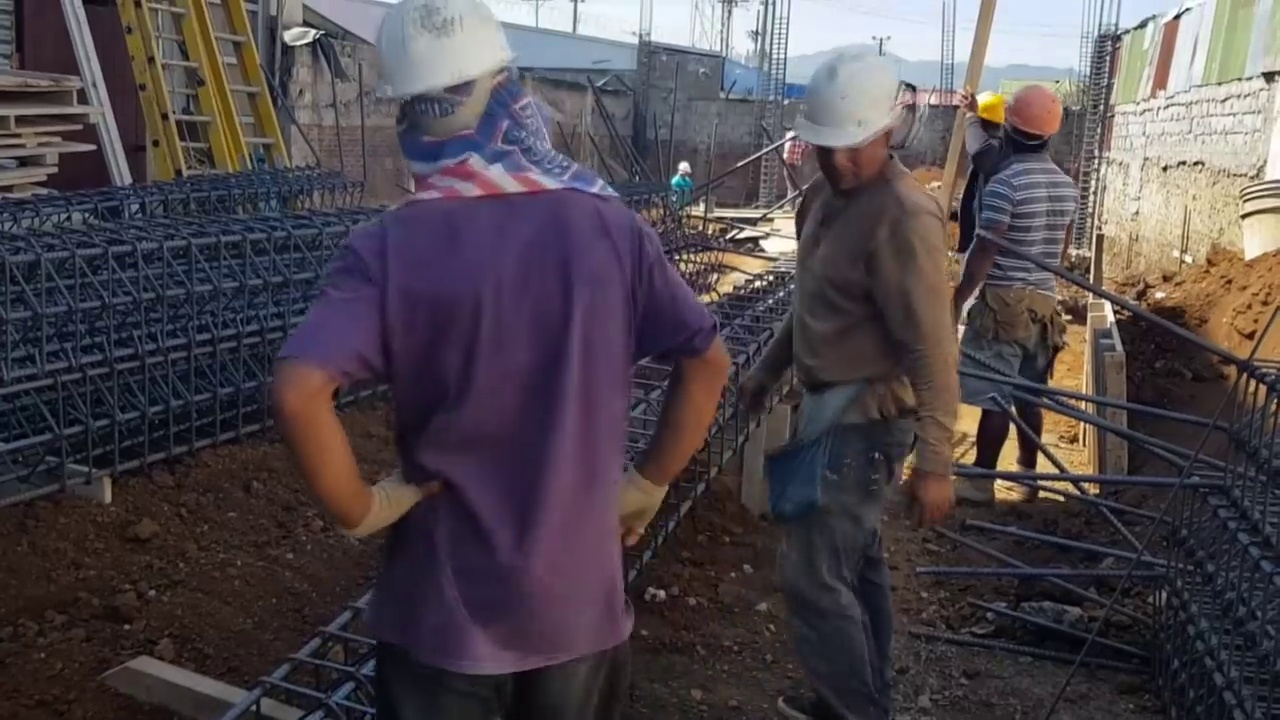helmet: (360, 4, 513, 96), (793, 42, 912, 149), (1003, 87, 1065, 133), (971, 89, 1007, 124), (676, 160, 693, 174)
helmet-on: (361, 3, 547, 195), (796, 41, 920, 202), (1004, 87, 1064, 165), (971, 89, 1006, 139), (676, 158, 694, 178)
person: (261, 0, 721, 719), (754, 41, 962, 697), (953, 71, 1074, 523), (958, 78, 1009, 253), (667, 160, 693, 214)
